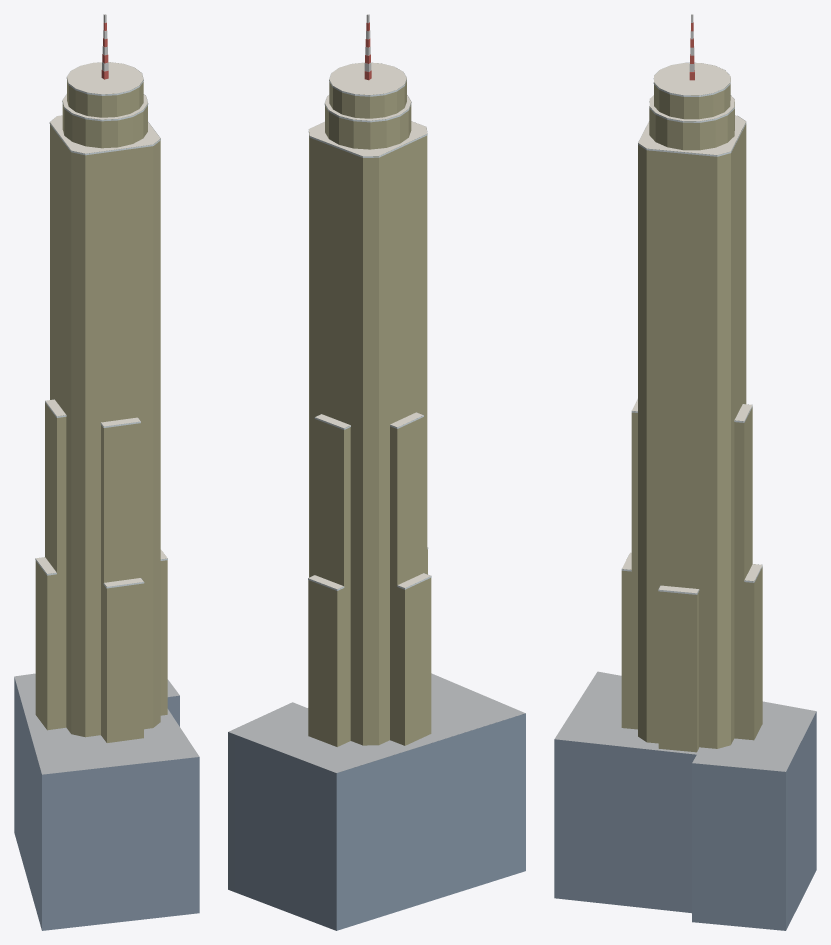
The model's file is baiyoke.glb.
3 renders of one model, left to right at view 1: azimuth 30°, elevation 25°; view 2: azimuth 150°, elevation 25°; view 3: azimuth 270°, elevation 25°, orthographic.
Parts seen in each view (by area): view 1: baiyoke; view 2: baiyoke; view 3: baiyoke.
Boxes of the visible parts, x1=… form: baiyoke: x1=14, y1=14, x2=199, y2=930; baiyoke: x1=228, y1=14, x2=525, y2=930; baiyoke: x1=554, y1=14, x2=816, y2=930.
Size of the model in its own units: 81.26 by 328 by 89.65.
